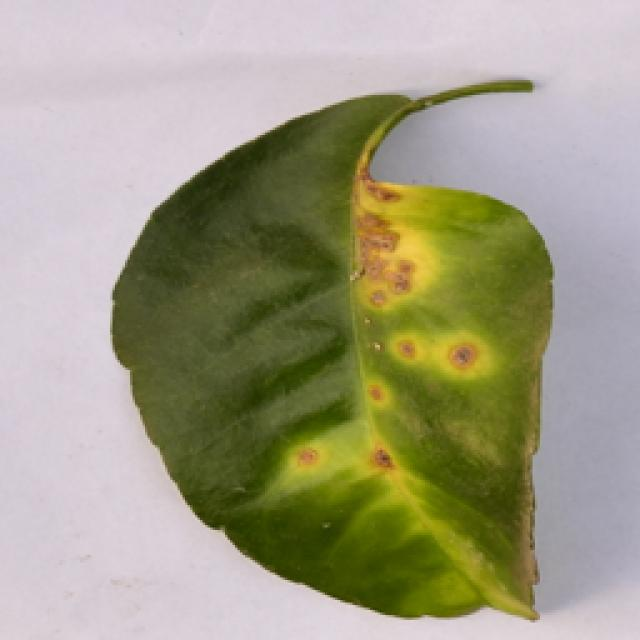canker: (122, 87, 558, 603)
